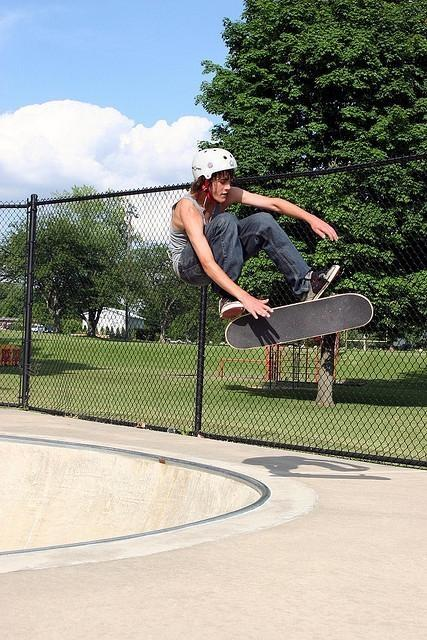car: (43, 327, 54, 333), (31, 324, 38, 332)
